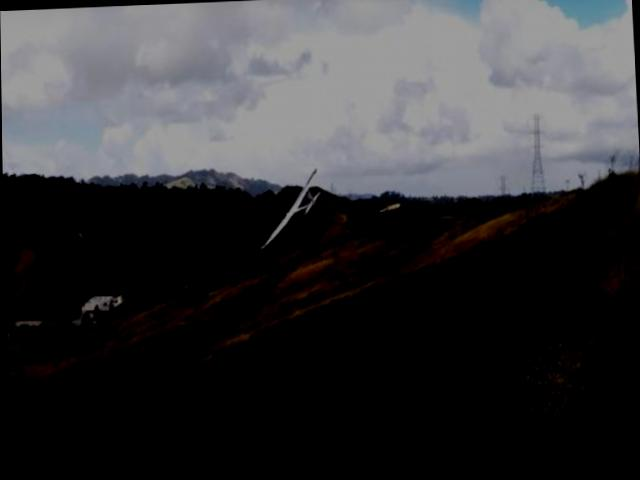iha: (254, 168, 323, 249)
